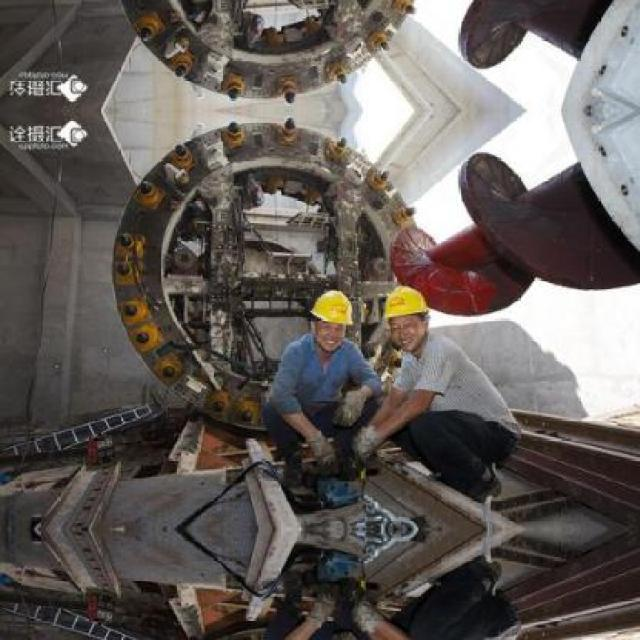helmet: (380, 278, 432, 349), (307, 284, 355, 347)
